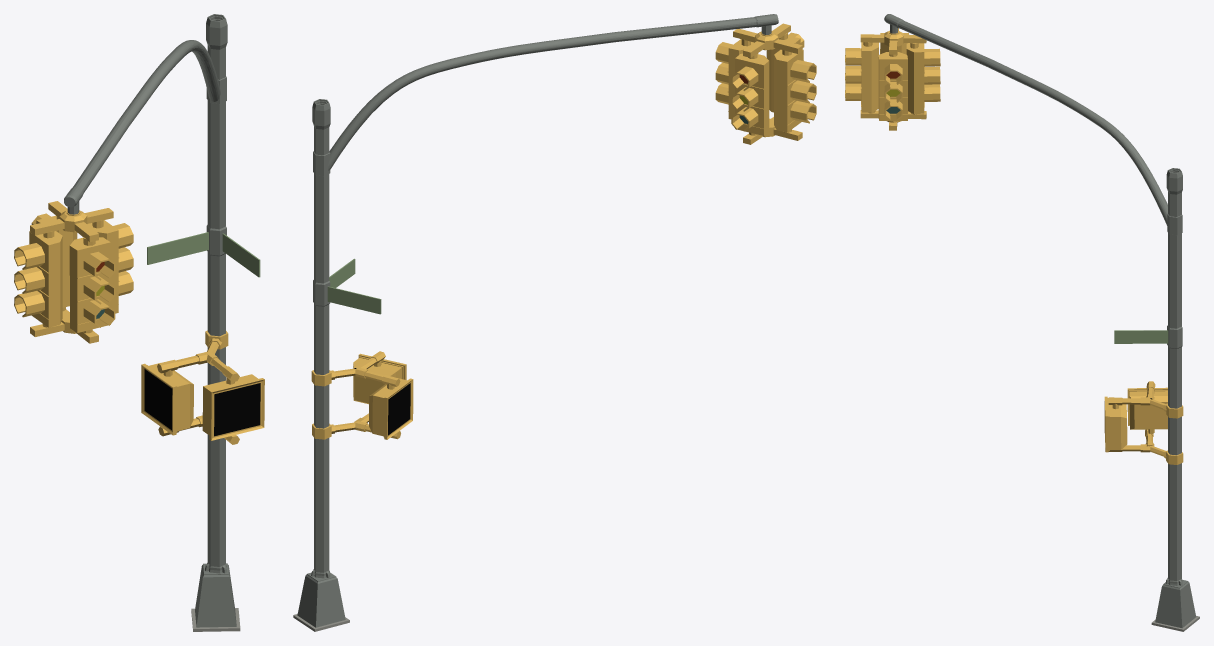
Rendered from Traffic_Light_Export.fbx.
3 views of the same model, side by side, from view 1: azimuth 30°, elevation 25°; view 2: azimuth 150°, elevation 25°; view 3: azimuth 270°, elevation 25° (orthographic). The views are drawn at different scales.
Parts seen in each view (by area): view 1: Traffic Light Pole, Traffic Light, Walking Light, Street Sign; view 2: Traffic Light Pole, Traffic Light, Walking Light, Street Sign; view 3: Traffic Light Pole, Traffic Light, Walking Light, Street Sign.
Part boxes in pixels (bbox=[...]): Traffic Light Pole: bbox=[64, 14, 240, 631]; Traffic Light: bbox=[14, 201, 133, 343]; Walking Light: bbox=[141, 330, 264, 444]; Street Sign: bbox=[147, 232, 260, 277]; Traffic Light Pole: bbox=[293, 14, 778, 631]; Traffic Light: bbox=[715, 23, 816, 144]; Walking Light: bbox=[311, 351, 413, 439]; Street Sign: bbox=[327, 258, 381, 314]; Traffic Light Pole: bbox=[884, 14, 1199, 631]; Traffic Light: bbox=[845, 28, 940, 130]; Walking Light: bbox=[1104, 381, 1183, 464]; Street Sign: bbox=[1114, 330, 1168, 343].
Size of the model in its own units: 505 by 760 by 504.
